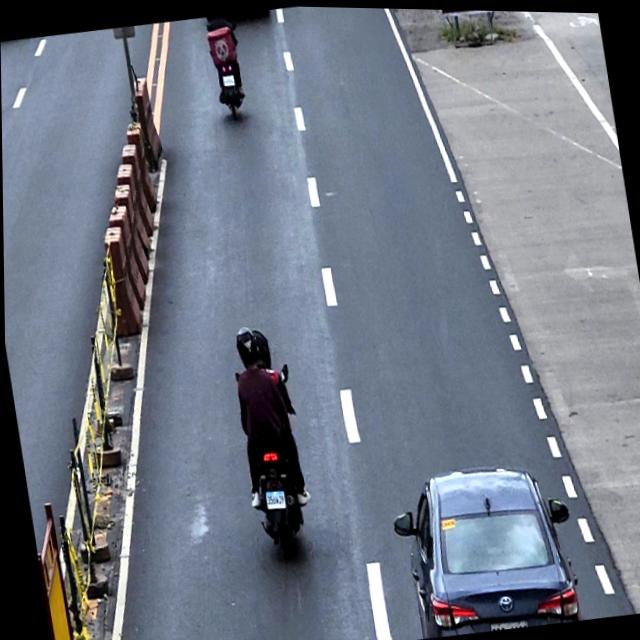Car: (384, 451, 584, 640)
License-Plate: (263, 485, 286, 510), (222, 73, 235, 87)
Motorcycle: (230, 359, 316, 562), (204, 15, 250, 122)
